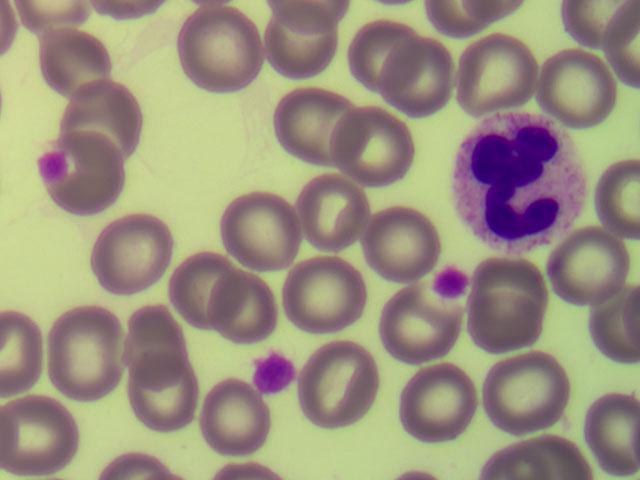Platelets: (259, 360, 292, 391), (438, 266, 462, 297), (43, 155, 59, 178)
RBC: (299, 342, 377, 429), (63, 85, 146, 161), (49, 315, 123, 400), (280, 94, 365, 168), (296, 178, 374, 258), (92, 217, 170, 294), (176, 10, 255, 86), (474, 262, 543, 349), (1, 395, 73, 478), (487, 358, 571, 427), (280, 263, 362, 332), (53, 134, 126, 211), (402, 367, 476, 441), (554, 232, 632, 302), (201, 384, 269, 464), (543, 50, 617, 123), (338, 111, 413, 183), (126, 346, 187, 433), (173, 256, 240, 334), (263, 2, 336, 72), (351, 20, 424, 90), (35, 33, 111, 98), (225, 193, 295, 263), (384, 292, 447, 369), (366, 213, 434, 278), (469, 34, 539, 97), (386, 43, 443, 115), (497, 440, 598, 480), (590, 394, 640, 473), (591, 291, 640, 367), (216, 274, 272, 340), (595, 163, 640, 245), (1, 310, 40, 388), (6, 1, 100, 33), (561, 1, 629, 44), (608, 9, 640, 79), (421, 1, 488, 28), (107, 456, 163, 480)
WBC: (451, 124, 578, 243)
